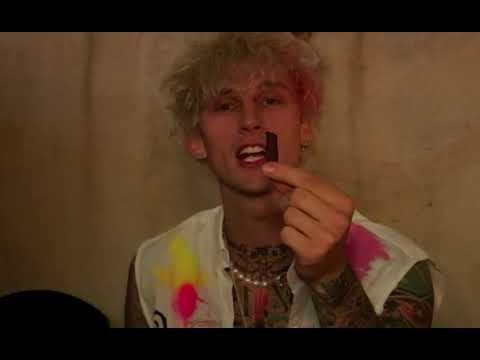Drunk: (199, 67, 303, 193)
